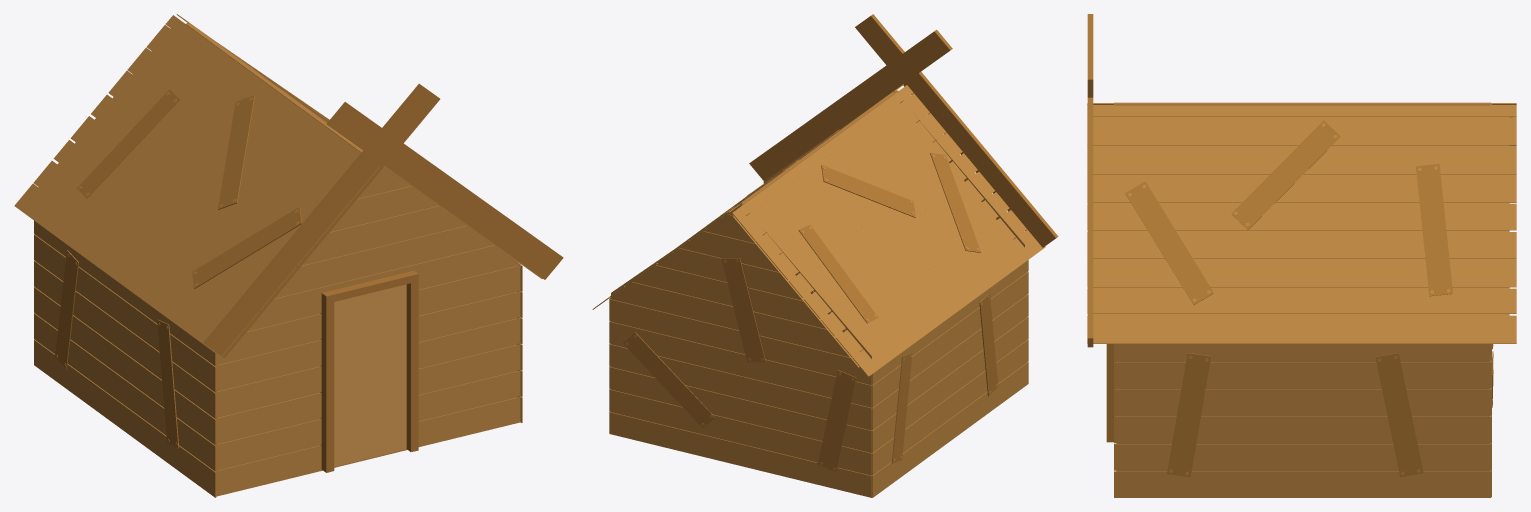
The model's file is House1.fbx.
3 renders of one model, left to right at view 1: azimuth 30°, elevation 25°; view 2: azimuth 150°, elevation 25°; view 3: azimuth 270°, elevation 25°, orthographic. The views are drawn at different scales.
Visible parts, largest first — view 1: House1; view 2: House1; view 3: House1.
Boxes of the visible parts, box(x1,y1,x2,y2) form: House1: box(14, 14, 563, 497); House1: box(592, 14, 1058, 497); House1: box(1087, 14, 1516, 497).
Size of the model in its own units: 400 by 400 by 400.
